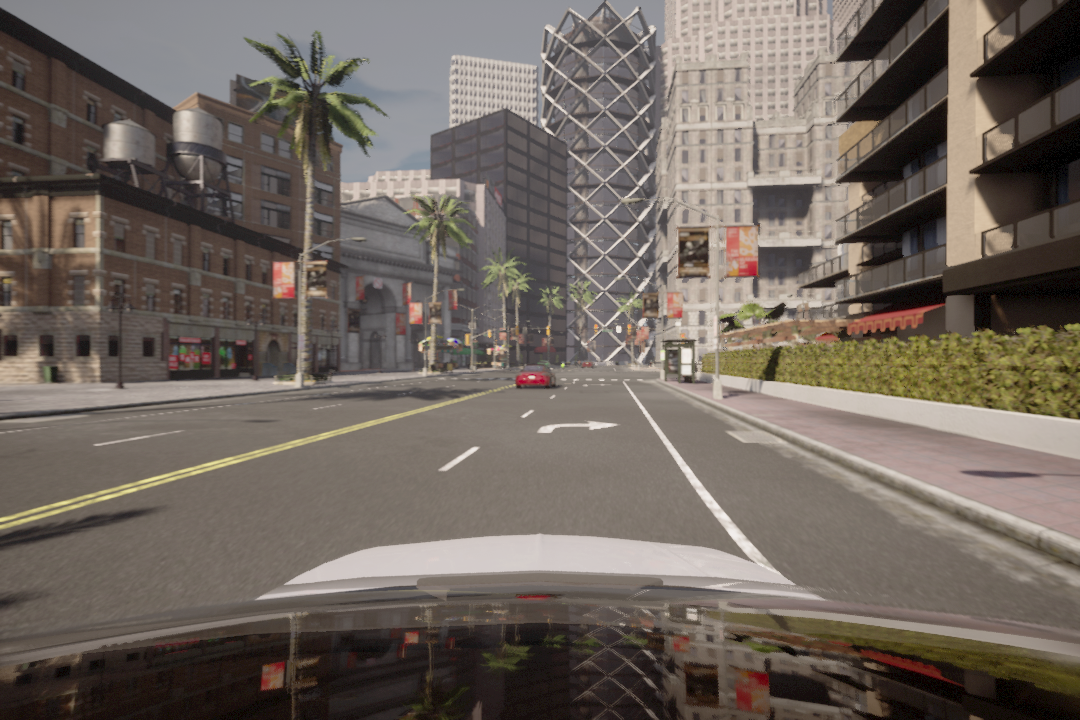RoadSign_right: (532, 413, 627, 441)
